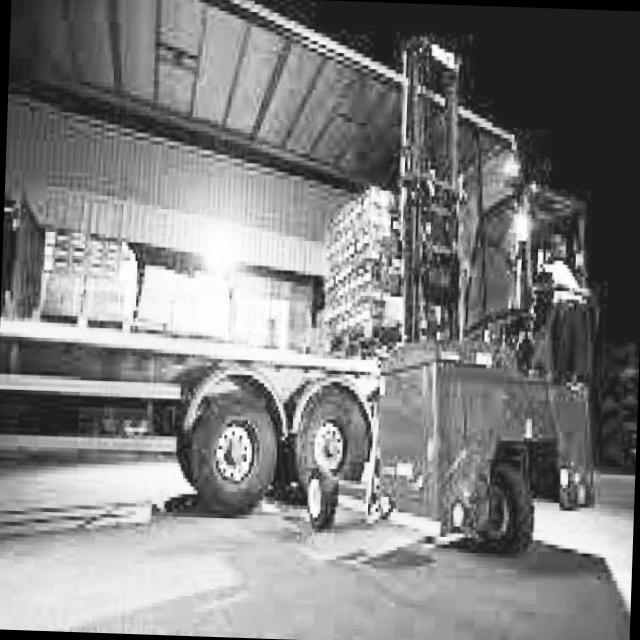Truck: (0, 15, 613, 558)
